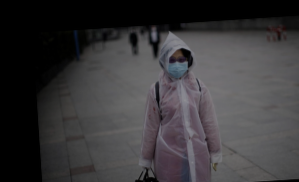with_mask: (166, 52, 190, 79)
